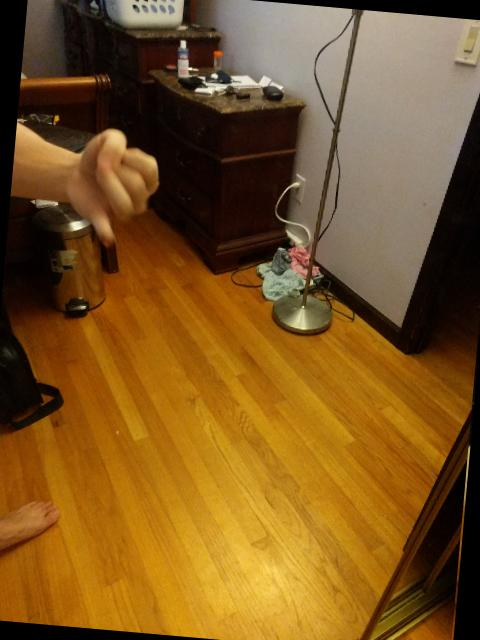J: (57, 120, 168, 259)
